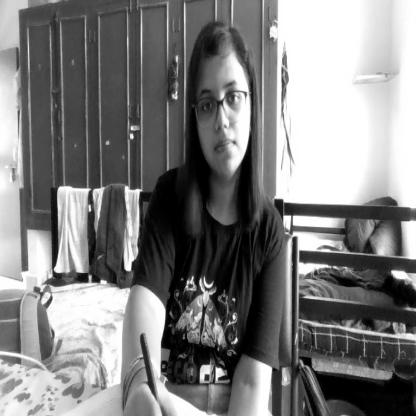Normal: (191, 30, 255, 183)
